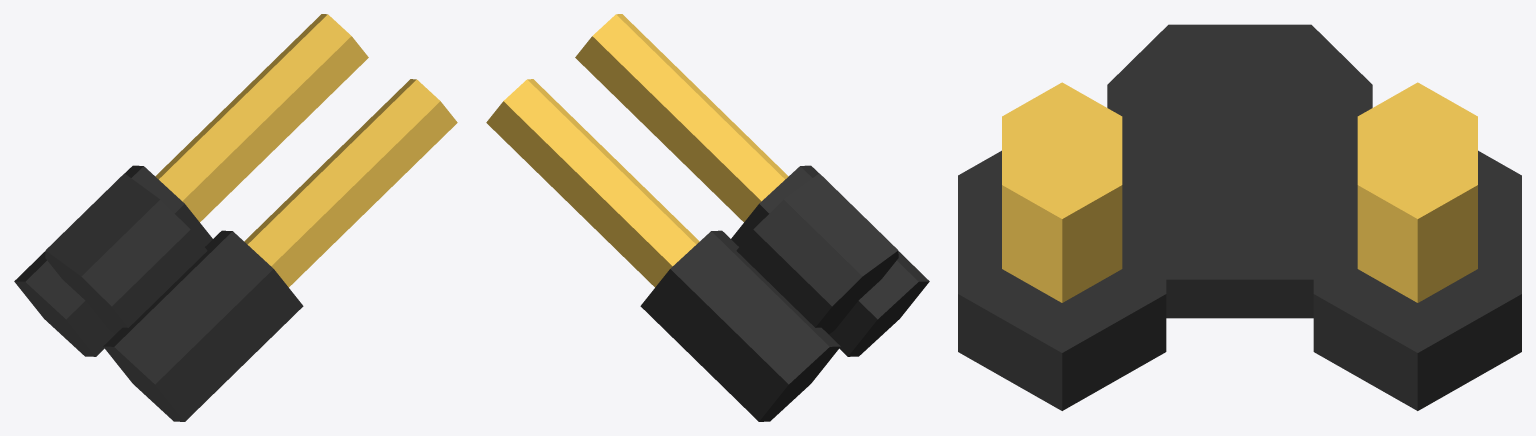
File: Pickup_Laser.FBX
The picture shows the model from 3 angles, left to right: view 1: azimuth 30°, elevation 25°; view 2: azimuth 150°, elevation 25°; view 3: azimuth 270°, elevation 25°; orthographic projection. The views are drawn at different scales.
Parts seen in each view (by area): view 1: Pickup_Laser; view 2: Pickup_Laser; view 3: Pickup_Laser.
Boxes of the visible parts, left/top/right/bottom form: Pickup_Laser: left=14, top=14, right=457, bottom=421; Pickup_Laser: left=486, top=14, right=929, bottom=421; Pickup_Laser: left=958, top=24, right=1521, bottom=410.
Size of the model in its own units: 495 by 390 by 352.
